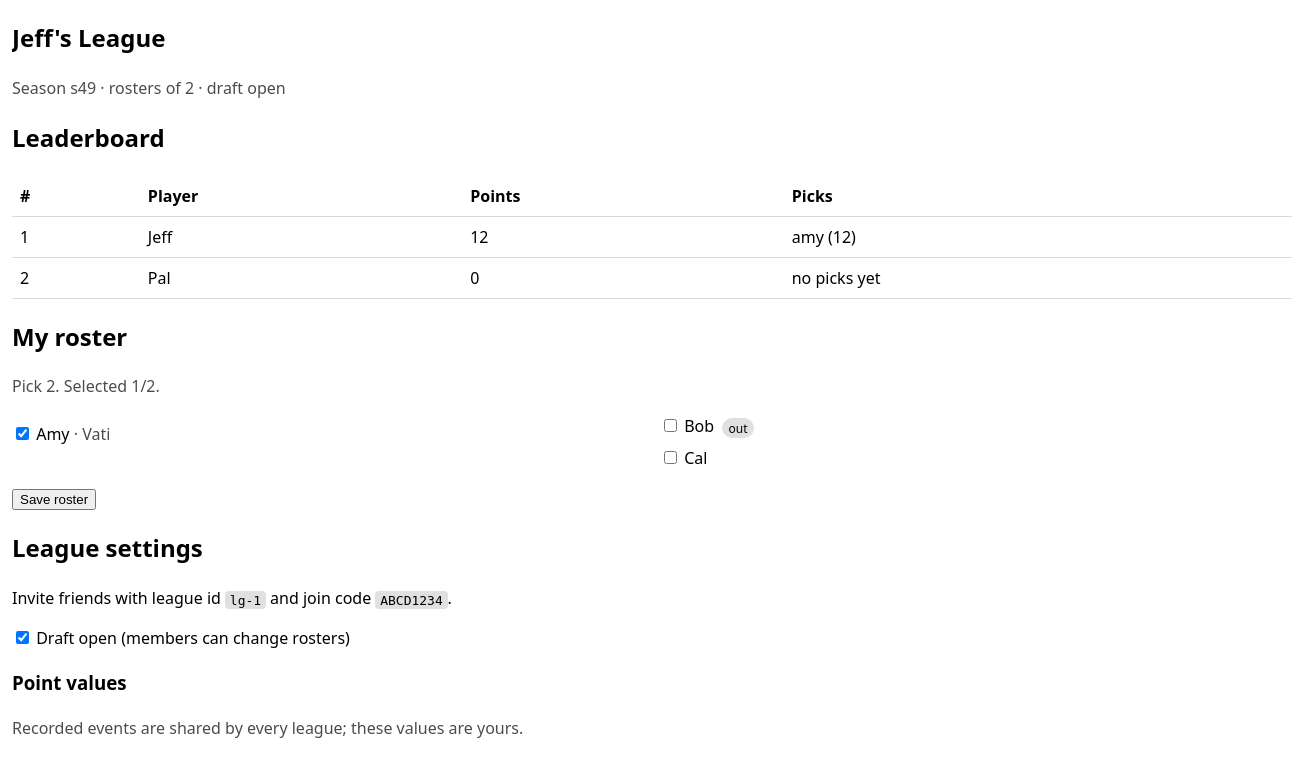
Test: LeaguePage › saves a roster and enforces the size limit in the UI
This screenshot has width=1292, height=757.
Expected: the heading "Jeff's League" is shown, [12,21,165,54]
Click the checkbox labelled "Cal" at (670, 458), box [664,451,677,464]
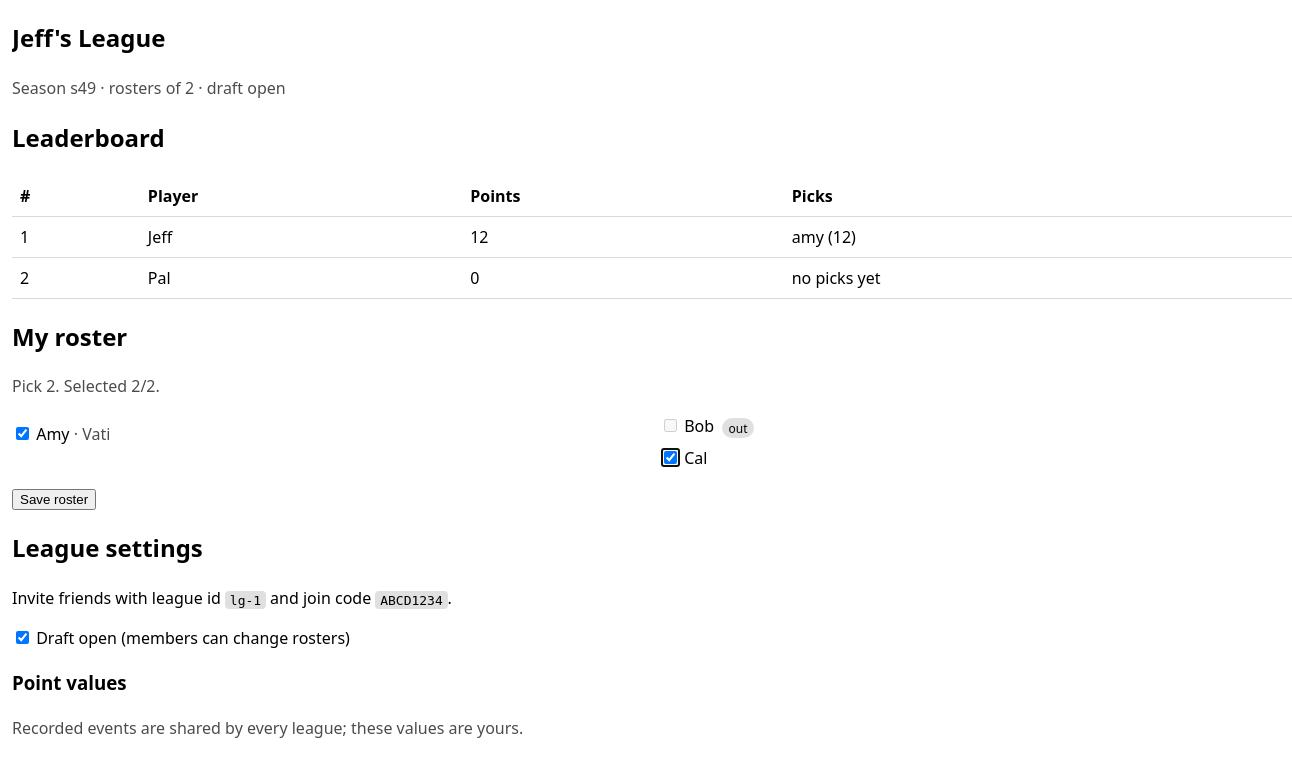
Result: the checkbox labelled "Bob" is disabled at [664,419,677,432]
Click the button "Save roster" at (54, 500), box [12,489,96,510]
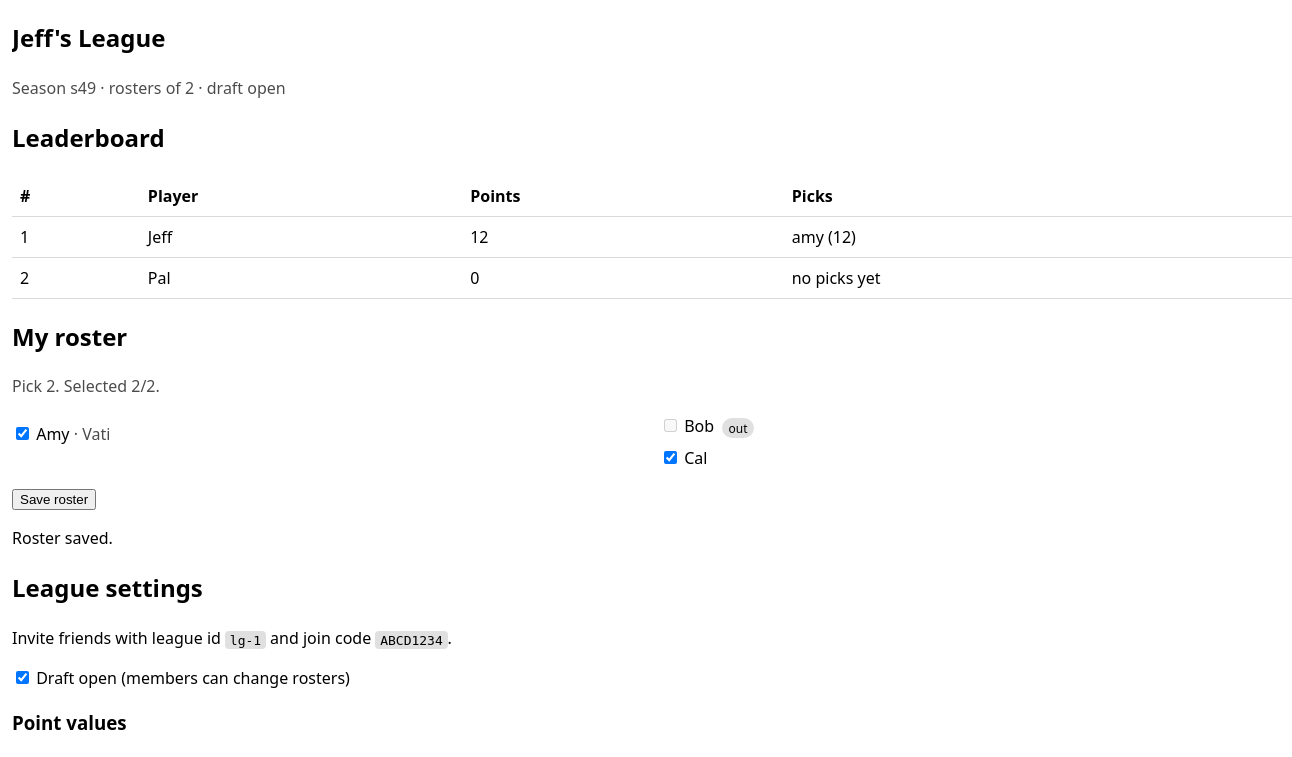
Result: the text "Roster saved." is shown at [12,527,113,549]
